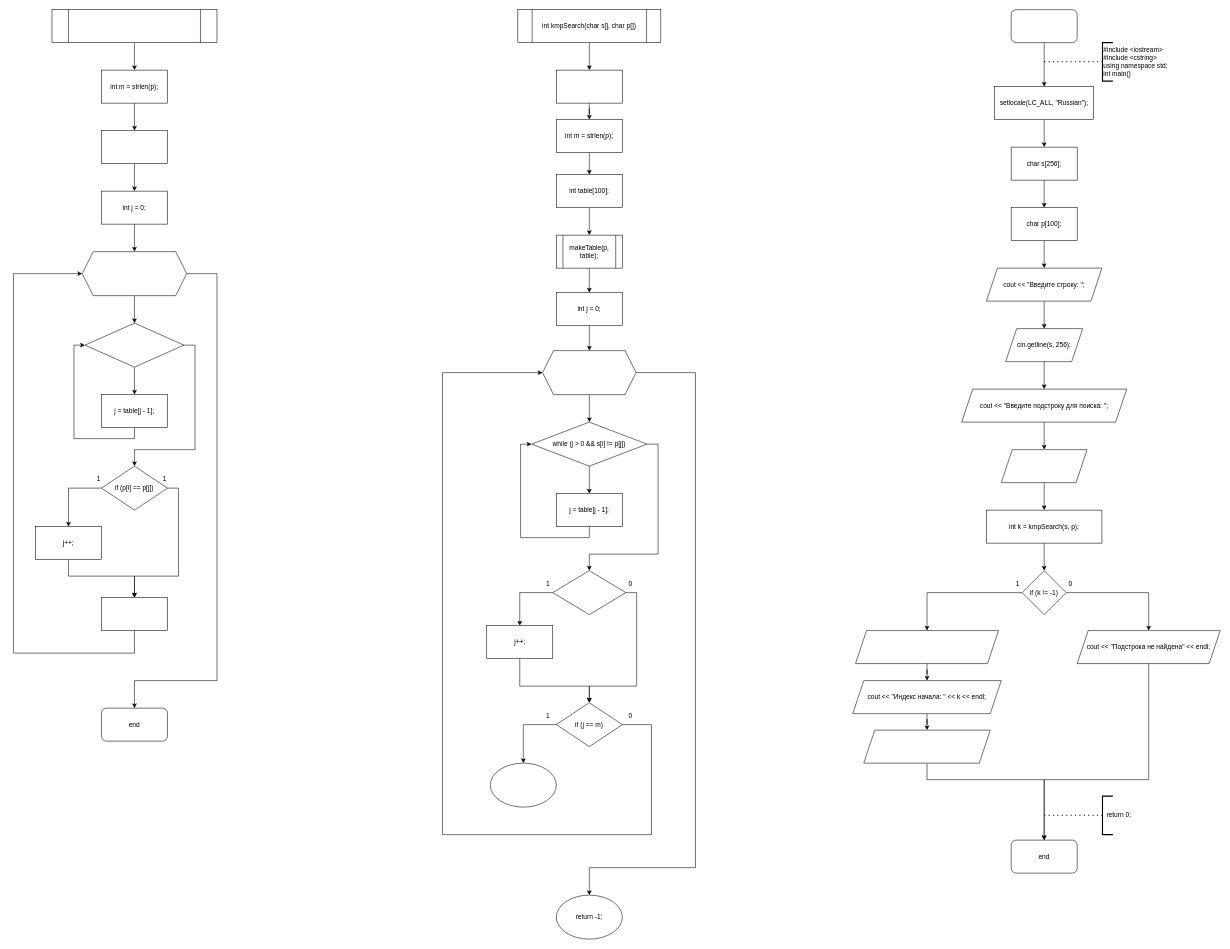
This 1230x949 diagram has some shape labels left out. Here are the shapes that lost their labels. From the top down, the centre of each, then its label:
point 134,26: void makeTable(char p[], int table[])
point 1044,26: start
point 589,86: int n = strlen(s);
point 134,147: table[0] = 0;
point 134,273: for (int i = 1; i < m; i++)
point 134,345: while (j > 0 && p[i] != p[j])
point 589,372: for (int i = 0; i < n; i++)
point 1044,466: cin.getline(p, 100);
point 589,592: if (s[i] == p[j])
point 134,614: table[i] = j;
point 927,647: cout << "Подстрока найдена" << endl;
point 926,746: cout << "Позиция: " << k + 1 << endl;
point 523,785: return i - m + 1;
